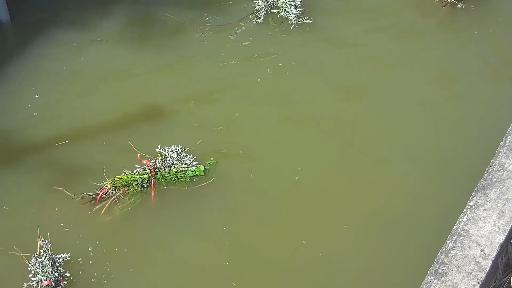twig: (59, 131, 232, 211), (11, 225, 84, 288), (241, 0, 312, 34), (425, 0, 471, 9)
